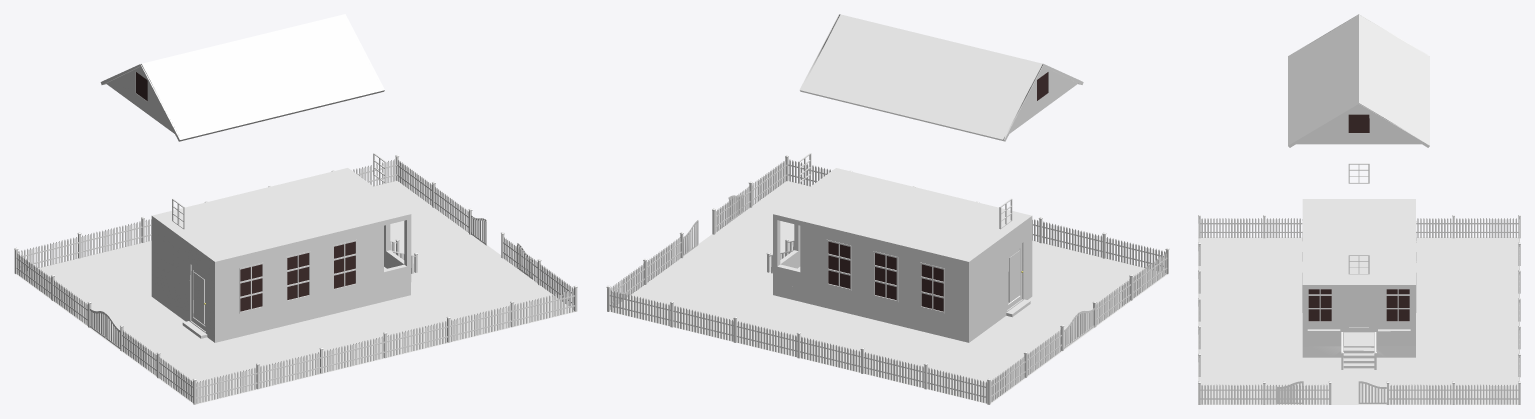
The model's file is cottage.glb.
3 views of the same model, side by side, from view 1: azimuth 30°, elevation 25°; view 2: azimuth 150°, elevation 25°; view 3: azimuth 270°, elevation 25° (orthographic). The views are drawn at different scales.
Parts seen in each view (by area): view 1: grass, cottage_main, roof, fence15, fence8, fence17, fence19, polySurface30, fence14, fence18, fence16, fence9 (+10 smaller); view 2: grass, cottage_main, roof, fence18, fence6, fence7, polySurface30, fence4, fence9, fence8, fence5, fence19 (+11 smaller); view 3: grass, cottage_main, roof, fence3, fence10, fence1, fence2, fence, fence13, fence12, front_door, fence11 (+4 smaller).
Boxes of the visible parts, left/top/right/bottom form: grass: left=16, top=180, right=577, bottom=404; cottage_main: left=151, top=168, right=411, bottom=342; roof: left=100, top=14, right=384, bottom=141; fence15: left=450, top=305, right=511, bottom=341; fence8: left=81, top=221, right=142, bottom=257; fence17: left=323, top=336, right=384, bottom=372; fence19: left=196, top=367, right=257, bottom=403; polySurface30: left=189, top=261, right=207, bottom=333; fence14: left=513, top=290, right=574, bottom=326; fence18: left=259, top=352, right=320, bottom=388; fence16: left=387, top=321, right=447, bottom=357; fence9: left=18, top=237, right=78, bottom=272; grass: left=609, top=180, right=1167, bottom=403; cottage_main: left=773, top=168, right=1032, bottom=342; roof: left=799, top=14, right=1083, bottom=141; fence18: left=1042, top=221, right=1102, bottom=257; fence6: left=736, top=321, right=797, bottom=356; fence7: left=800, top=336, right=860, bottom=372; polySurface30: left=1006, top=239, right=1024, bottom=312; fence4: left=609, top=290, right=670, bottom=325; fence9: left=927, top=367, right=987, bottom=403; fence8: left=863, top=352, right=924, bottom=387; fence5: left=673, top=305, right=733, bottom=341; fence19: left=1105, top=237, right=1165, bottom=272; grass: left=1198, top=237, right=1519, bottom=404; cottage_main: left=1302, top=199, right=1415, bottom=368; roof: left=1288, top=14, right=1429, bottom=147; fence3: left=1454, top=384, right=1518, bottom=404; fence10: left=1454, top=218, right=1518, bottom=237; fence1: left=1265, top=384, right=1328, bottom=404; fence2: left=1389, top=384, right=1452, bottom=404; fence: left=1200, top=384, right=1263, bottom=404; fence13: left=1200, top=218, right=1263, bottom=237; fence12: left=1265, top=218, right=1302, bottom=237; front_door: left=1345, top=293, right=1371, bottom=331; fence11: left=1416, top=218, right=1452, bottom=237.
Size of the model in its own units: 189 by 126 by 154.
